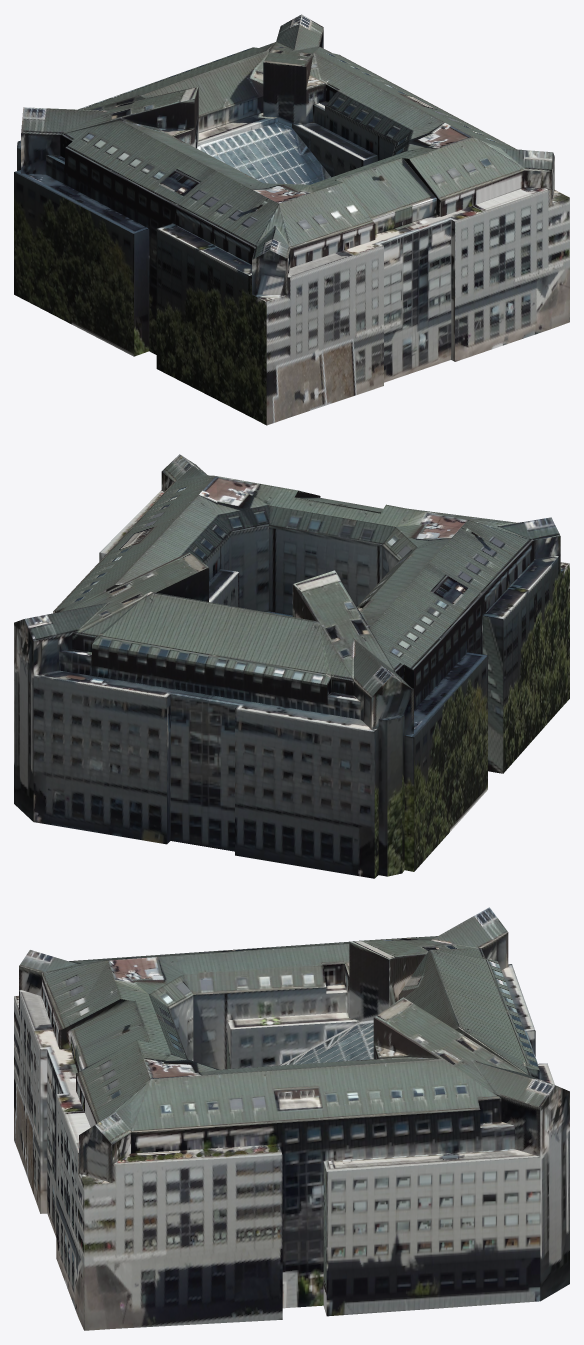
3 renders of one model, top to bottom at view 1: azimuth 30°, elevation 25°; view 2: azimuth 150°, elevation 25°; view 3: azimuth 270°, elevation 25°, orthographic. The views are drawn at different scales.
Visible parts, largest first — view 1: Z_UP; view 2: Z_UP; view 3: Z_UP.
Boxes of the visible parts, x1=… form: Z_UP: x1=14, y1=14, x2=569, y2=425; Z_UP: x1=14, y1=454, x2=569, y2=878; Z_UP: x1=14, y1=907, x2=569, y2=1330.
Size of the model in its own units: 60.94 by 30.65 by 64.48.
2 materials, 1 textured.
